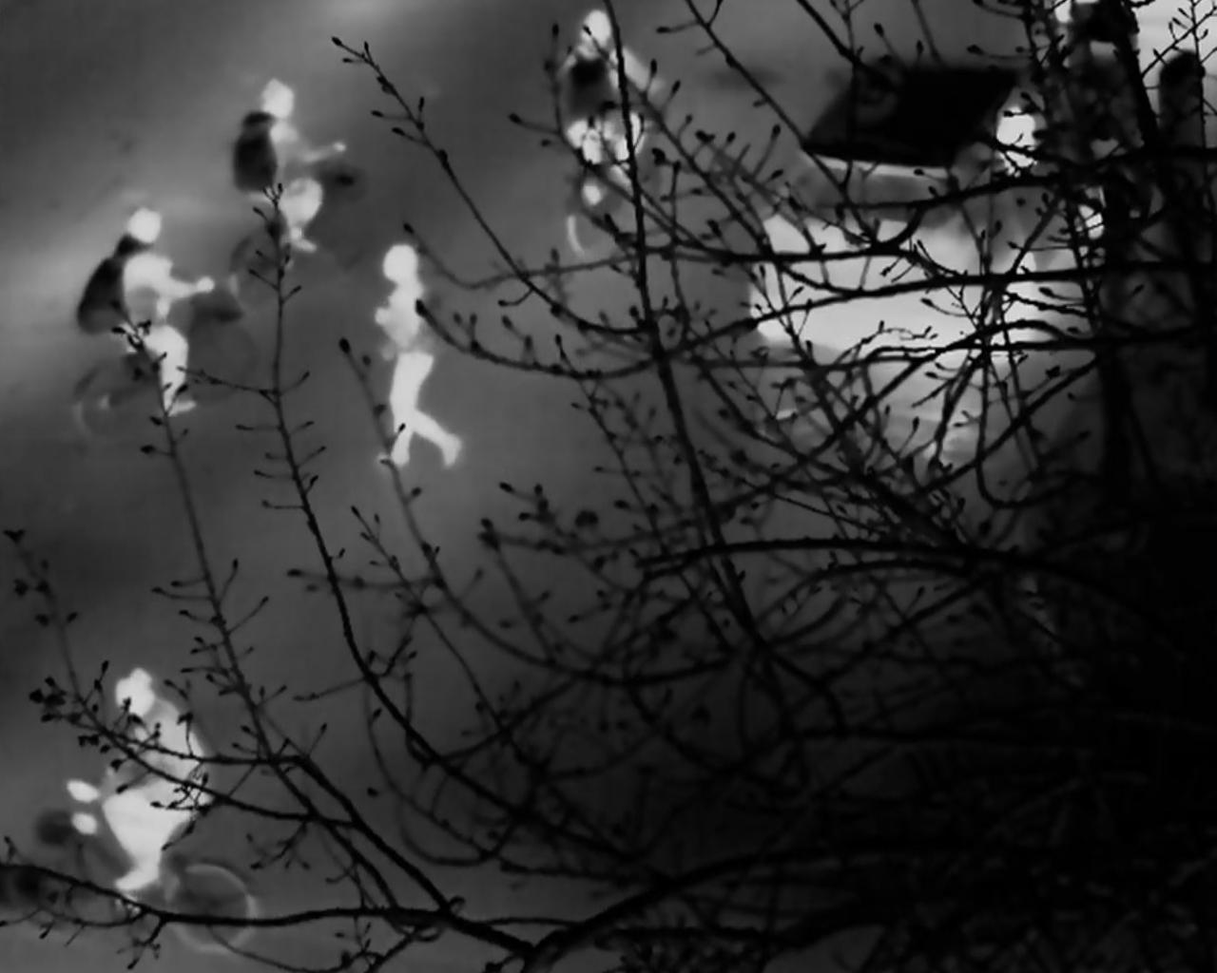person: (99, 194, 220, 437), (97, 658, 203, 907), (360, 246, 468, 468), (565, 5, 639, 220), (242, 60, 333, 228)
